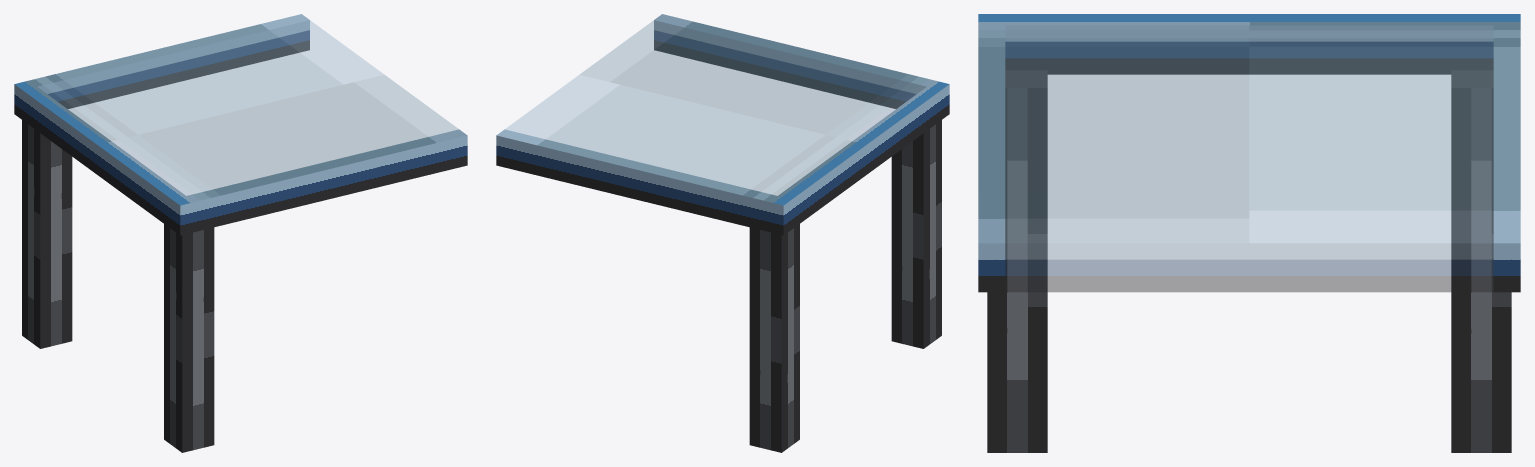
File: glass_table_end_2legs.glb
The picture shows the model from 3 angles, left to right: view 1: azimuth 30°, elevation 25°; view 2: azimuth 150°, elevation 25°; view 3: azimuth 270°, elevation 25°; orthographic projection. The views are drawn at different scales.
Parts seen in each view (by area): view 1: glass_table_end_2legs; view 2: glass_table_end_2legs; view 3: glass_table_end_2legs.
Part boxes in pixels (box(x1,y1,x2,y2)): glass_table_end_2legs: box(14, 14, 467, 452); glass_table_end_2legs: box(496, 14, 949, 452); glass_table_end_2legs: box(978, 14, 1520, 452).
Bounding box in the file's own units: 0.9 × 0.75 × 0.9.
Materials: 2 (2 with a texture image).
